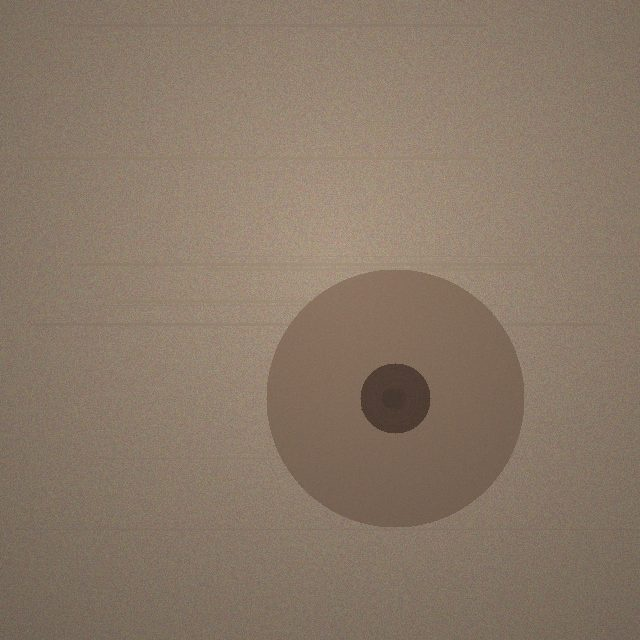cold_weld: (266, 269, 524, 527)
